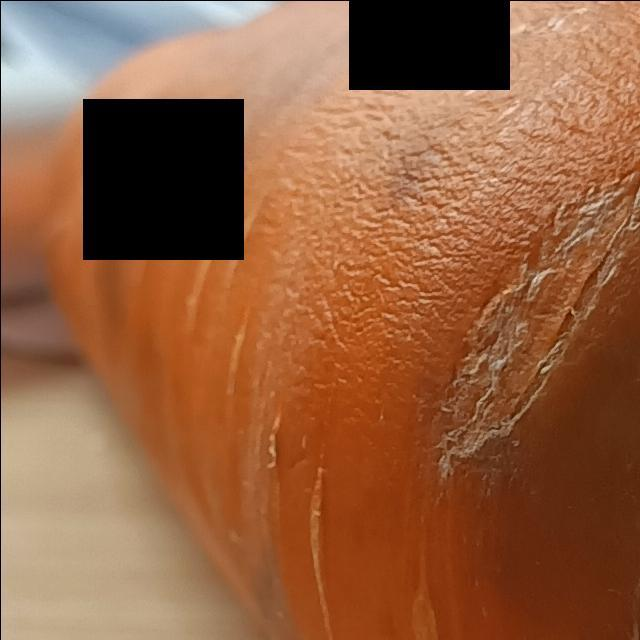carrot: (17, 1, 640, 640)
